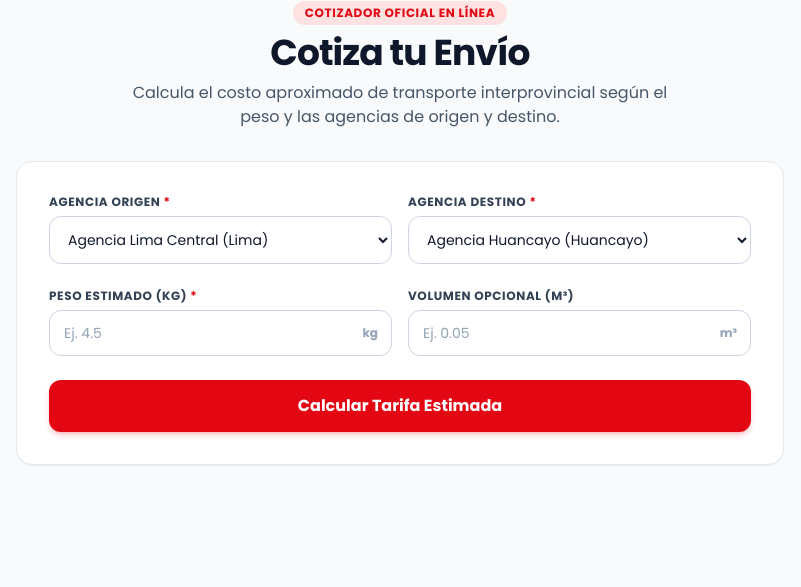
Página de Cotización (Cotiza.tsx) › muestra alerta ante limitación de tasa 429 con Retry-After
The image size is (801, 587).
Step 1. Type "2.0" into the number field labelled "Peso Estimado (kg) *" → (220, 333), box [49, 310, 392, 356]
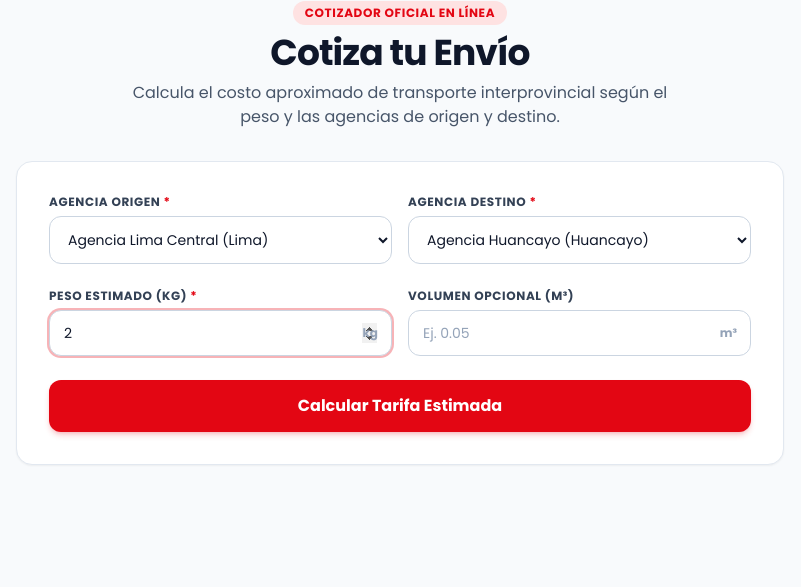
Step 2. Click the button "Calcular Tarifa Estimada" → (400, 406), box [49, 380, 751, 432]
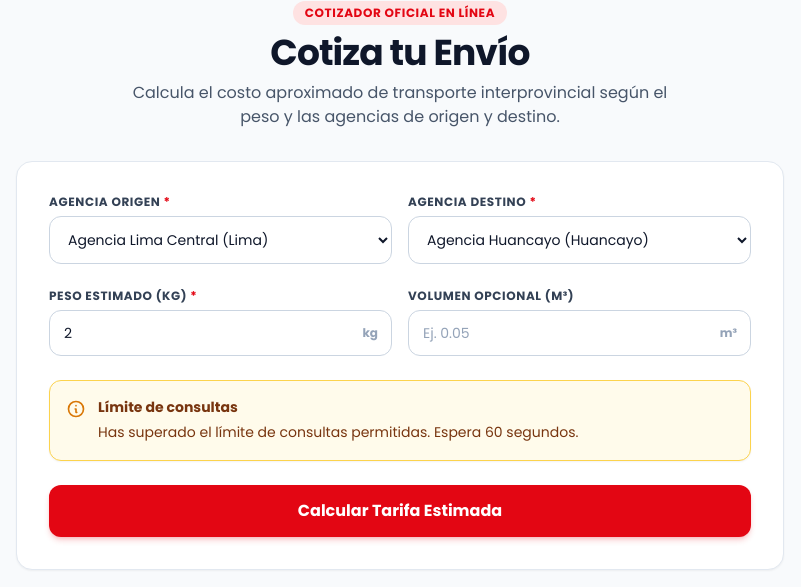
Expected: the heading "Límite de consultas" is shown, [98, 397, 238, 417]
Expected: the text "Espera 60 segundos" is shown, [98, 422, 578, 442]
